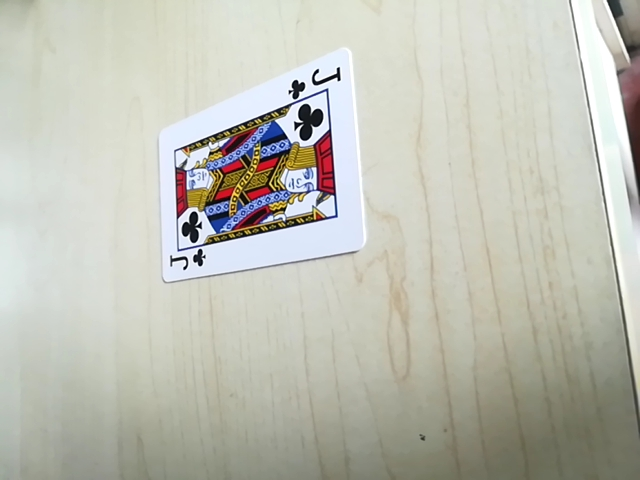mh j: (287, 62, 340, 102), (163, 238, 212, 278)
